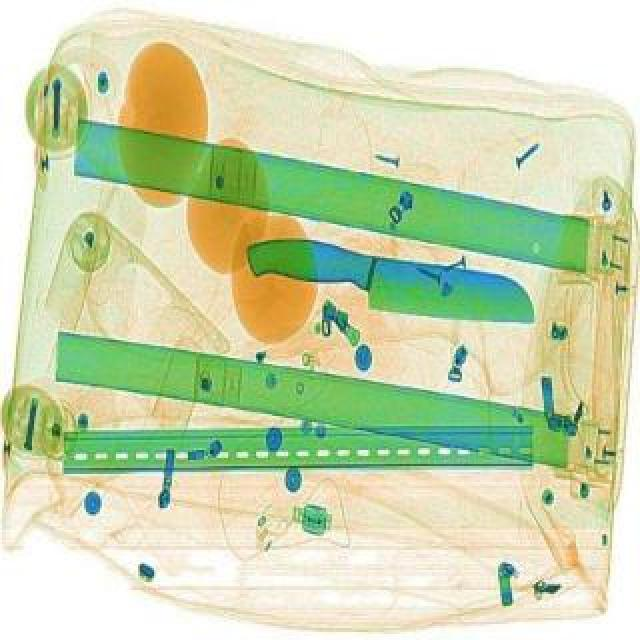knife: (238, 230, 542, 330)
